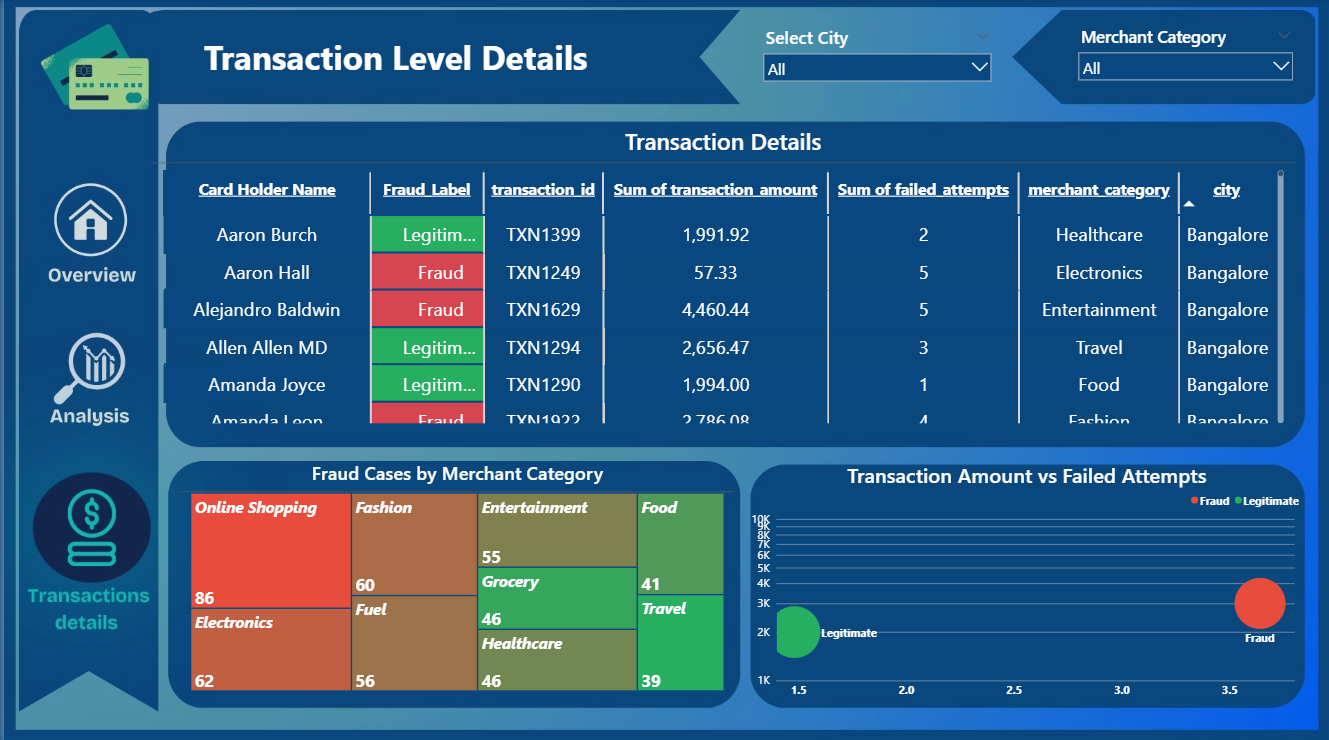

The dashboard page shown, as its layout file describes it:
{"tool":"powerbi","page":{"name":"transactions details","canvas":[1920,1080],"ordinal":2},"visuals":[{"type":"tableEx","title":"Transaction Details ","fields":{"Values":["transactions.cardholder_name","transactions.Fraud_Label","transactions.transaction_id","Sum(transactions.transaction_amount)","Sum(transactions.failed_attempts)","transactions.merchant_category","transactions.city"]},"box":[235.3,170.1,1634.1,461.5],"z":0},{"type":"treemap","title":"Fraud Cases by Merchant Category","fields":{"Group":["transactions.merchant_category"],"Values":["transactions.Total Fraud Cases"]},"box":[255,655,802.5,362.5],"z":1000},{"type":"scatterChart","title":"Transaction Amount vs Failed Attempts","fields":{"Category":["transactions.Fraud_Label"],"Series":["transactions.Fraud_Label"],"Size":["CountNonNull(transactions.transaction_id)"],"X":["Avg(transactions.failed_attempts)"],"Y":["Avg(transactions.transaction_amount)"]},"box":[1066,656,830,380],"z":2000},{"type":"actionButton","box":[57.5,255,127.5,122.5],"z":3000},{"type":"actionButton","box":[70,455,115,132.5],"z":4000},{"type":"textbox","title":"Transaction Level Details","box":[236,52,664,70],"z":5000},{"type":"slicer","fields":{"Values":["transactions.Time_Of_Day"]},"box":[1550,40,320,102.5],"z":6000},{"type":"slicer","fields":{"Values":["transactions.city"]},"box":[1095.1,39,339.8,103.9],"z":7000}]}

Visuals, with their boxes in screenshot pixels (x1, y1, x2, y2), scaled from the page's 1920x1080 canvas onto the 1329x740 screenshot:
"Transaction Details " tableEx: detection(163, 117, 1294, 433)
"Fraud Cases by Merchant Category" treemap: detection(177, 449, 732, 697)
"Transaction Amount vs Failed Attempts" scatterChart: detection(738, 449, 1312, 710)
actionButton: detection(40, 175, 128, 259)
actionButton: detection(48, 312, 128, 403)
"Transaction Level Details" textbox: detection(163, 36, 623, 84)
slicer - transactions.Time_Of_Day: detection(1073, 27, 1294, 98)
slicer - transactions.city: detection(758, 27, 993, 98)
